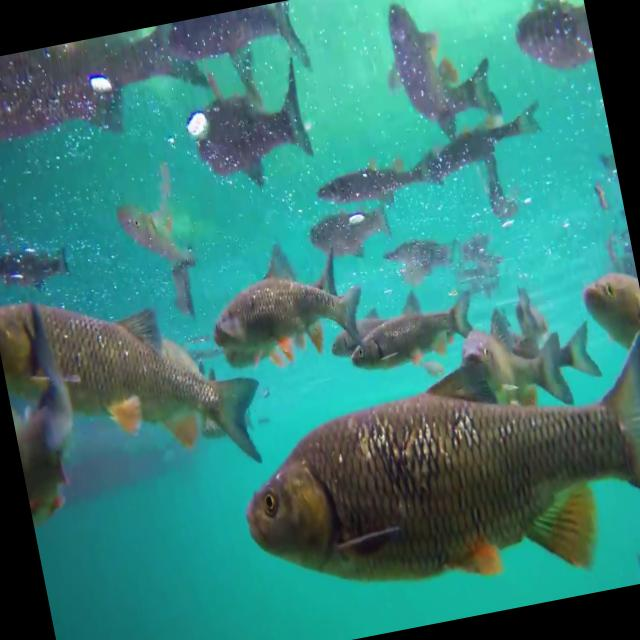fish: (217, 317, 640, 631), (0, 250, 276, 504), (0, 299, 108, 542), (183, 41, 334, 202), (208, 245, 372, 368), (444, 296, 580, 409), (333, 284, 478, 376), (368, 0, 467, 132), (496, 0, 598, 88), (559, 249, 640, 355)
